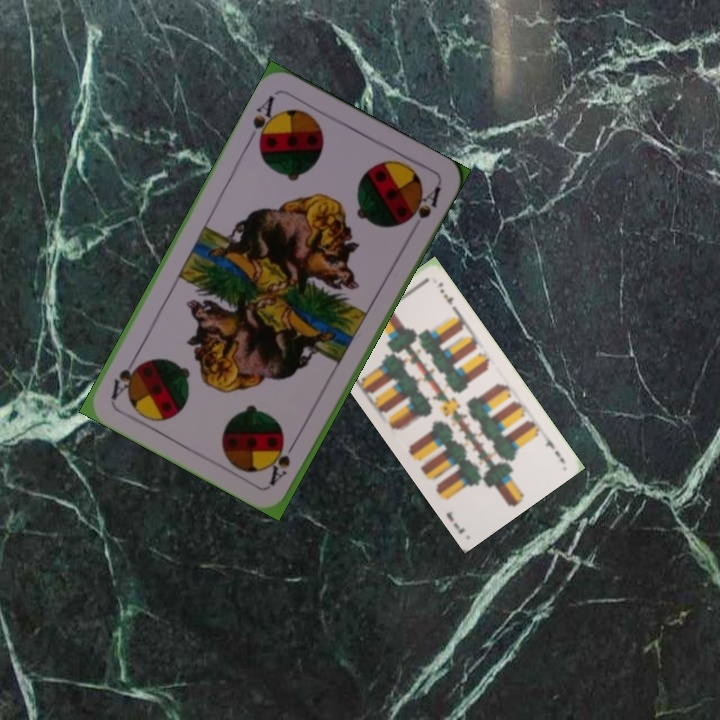E7: (540, 428, 567, 464)
SA: (246, 91, 280, 149), (265, 433, 300, 488)
